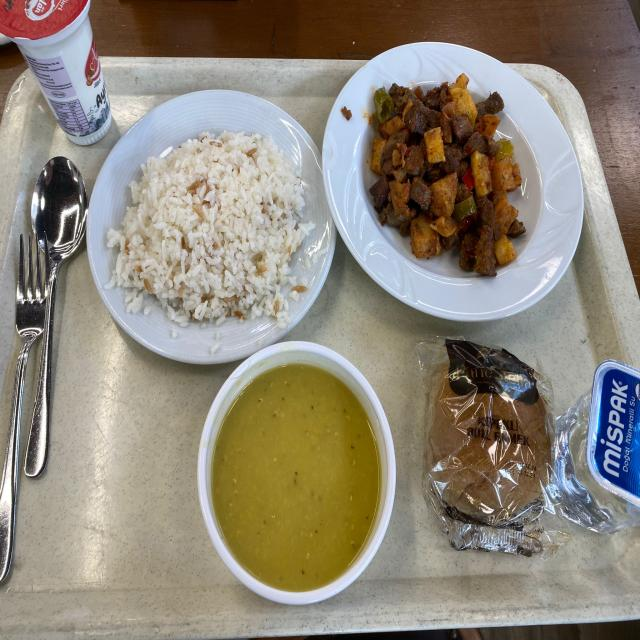ana_yemek: (338, 49, 570, 317), (106, 99, 326, 339)
corba: (205, 356, 384, 599)
